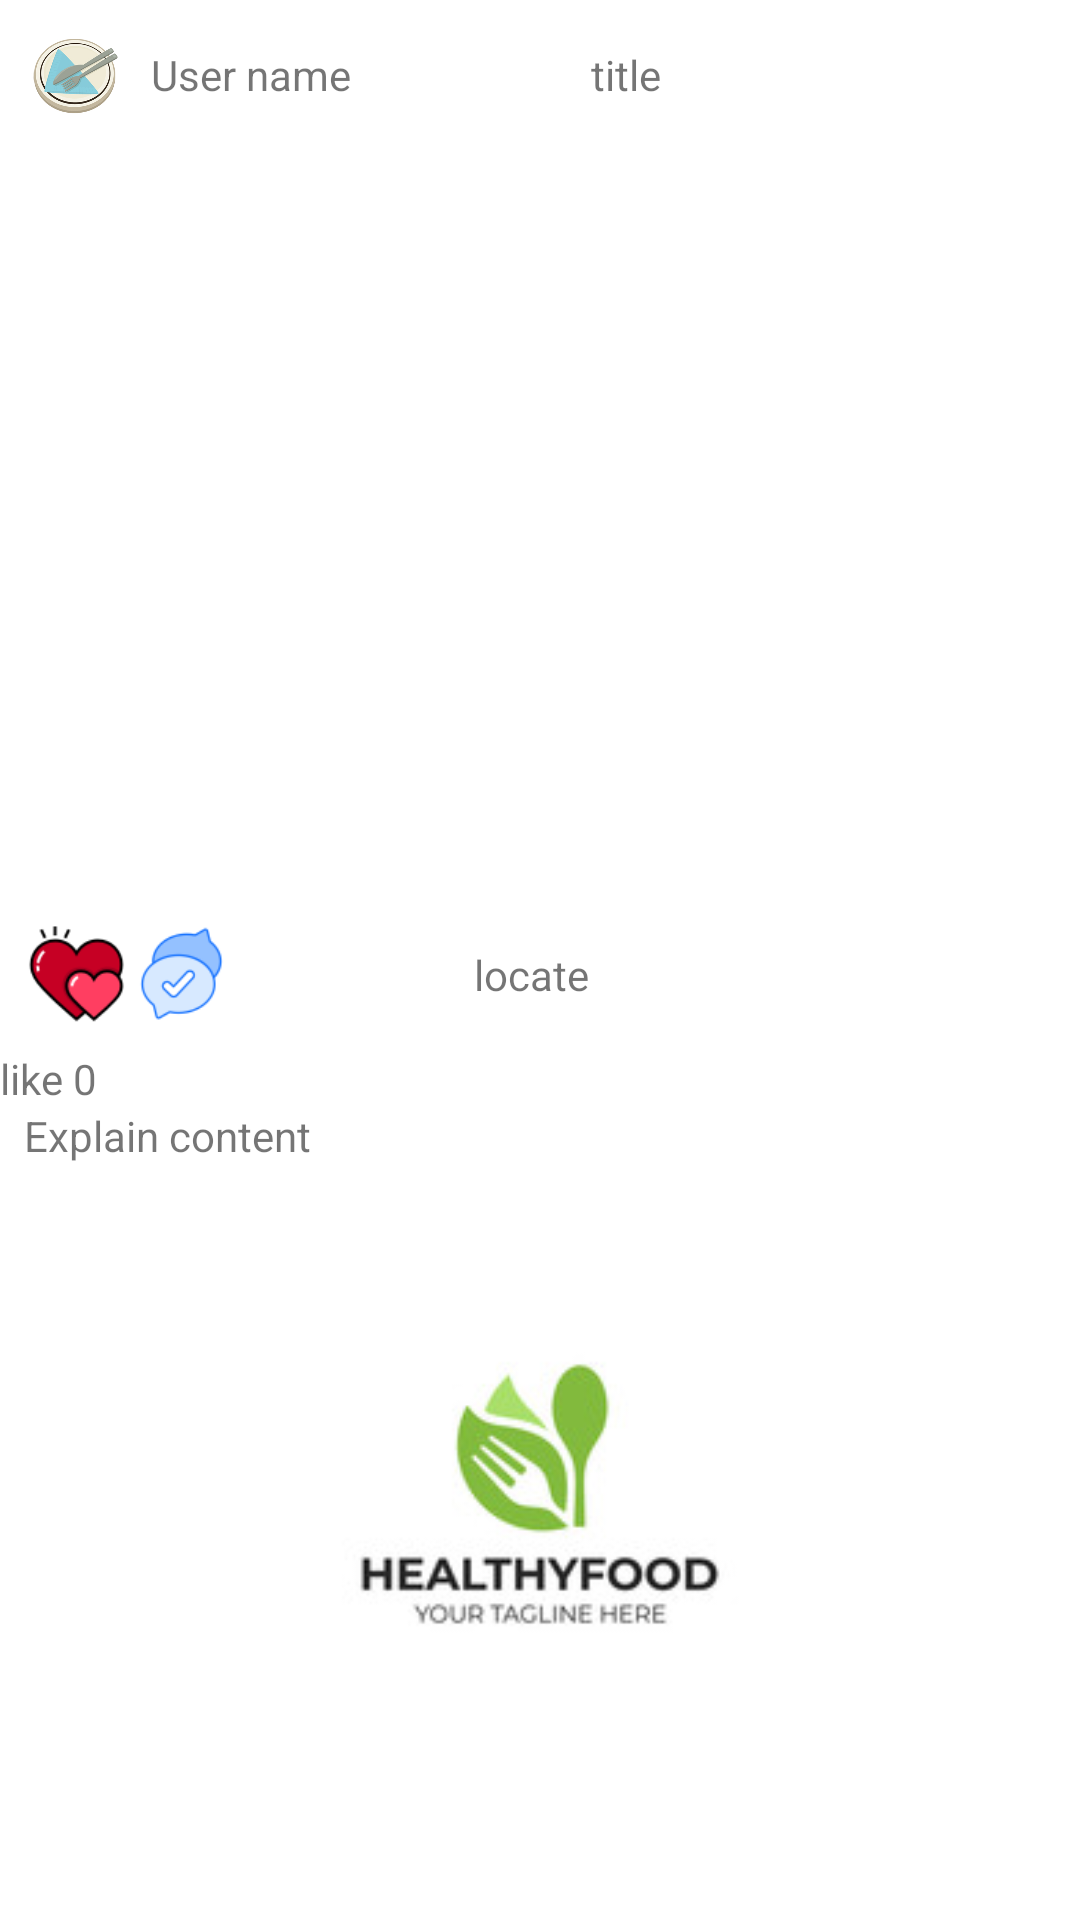

Point at icon controls on the screen. Image size 1080px x 1920px, points as (x,y).
favorite: (76,974)
